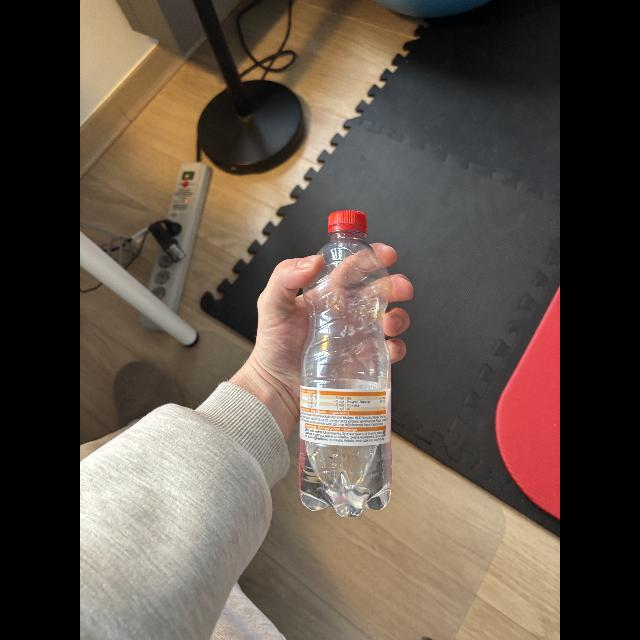Plastic: (296, 205, 396, 523)
